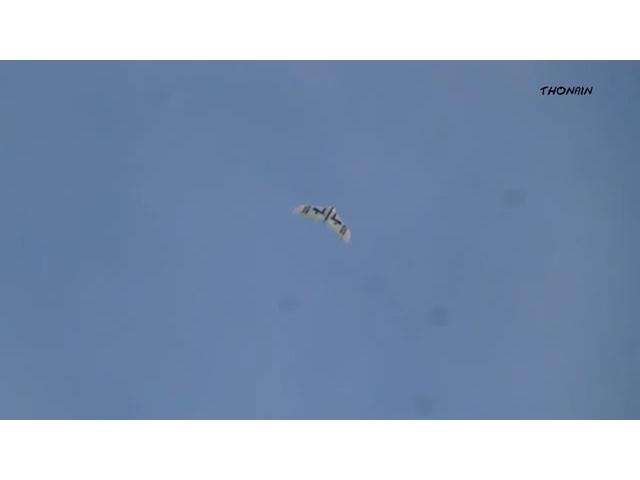Anti-Drone: (294, 206, 350, 242)
